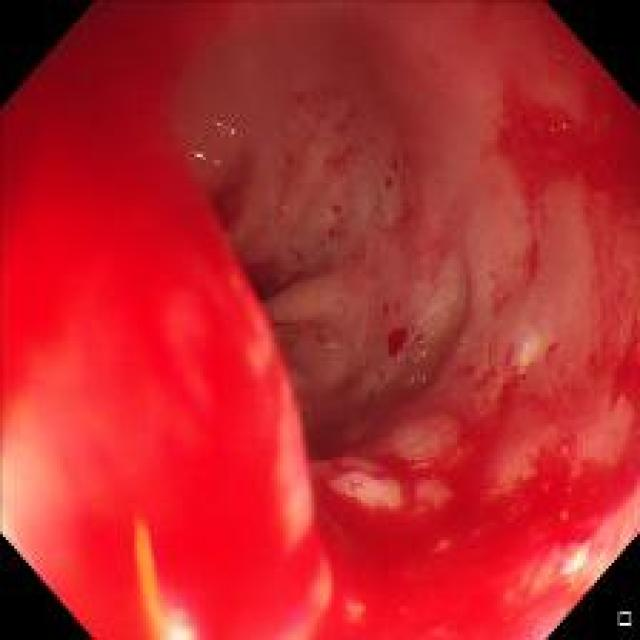blood: (4, 12, 319, 636), (308, 435, 636, 638), (494, 75, 639, 435)
blur: (19, 266, 345, 638)
color misalignment: (130, 521, 188, 632)
saturation: (16, 309, 120, 528)
specularity: (191, 150, 226, 175), (212, 116, 239, 148)
